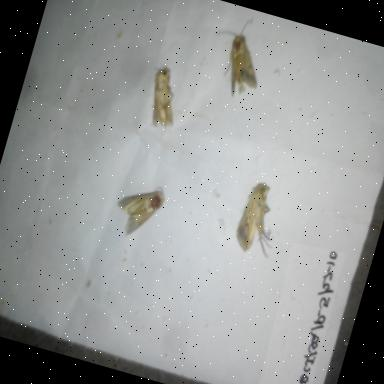abw: (198, 9, 278, 106), (227, 173, 293, 267), (103, 172, 172, 258), (134, 60, 192, 138)
